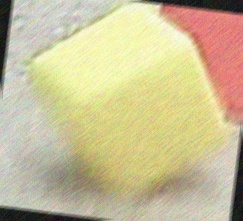yellow_cube: (21, 7, 232, 205)
